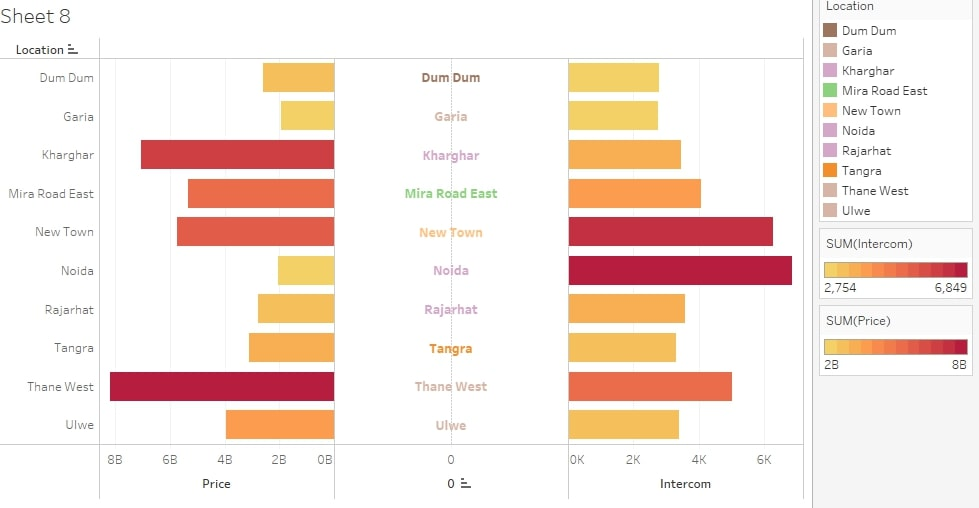

What the dashboard file says about the page in this screenshot:
{"tool":"tableau","page":{"name":"Dashboard 4","canvas":[1000,800],"ordinal":3},"visuals":[{"type":"worksheet","title":"Sheet 8","mark":"Automatic","rows":["Location"],"cols":["Price","Calculation_1096063561565847552","Intercom"],"box":[8,8,824,784]},{"type":"legend","title":"Sheet 8","param":"[federated.1i14un80v36d5i1akako61g8pi19].[sum:Price:qk]","box":[832,8,160,65]},{"type":"legend","title":"Sheet 8","param":"[federated.1i14un80v36d5i1akako61g8pi19].[sum:Intercom:qk]","box":[832,73,160,65]},{"type":"legend","title":"Sheet 8","param":"[federated.1i14un80v36d5i1akako61g8pi19].[none:Location:nk]","box":[832,138,160,226]}]}

Visuals, with their boxes on the page's 1000x800 design canvas (x1, y1, x2, y2). These are canvas units, not pixel positions in the 979x508 screenshot, which may show the page scaled, cropped or inside an application window:
"Sheet 8" worksheet: (8, 8, 832, 792)
"Sheet 8" legend: (832, 8, 992, 73)
"Sheet 8" legend: (832, 73, 992, 138)
"Sheet 8" legend: (832, 138, 992, 364)
